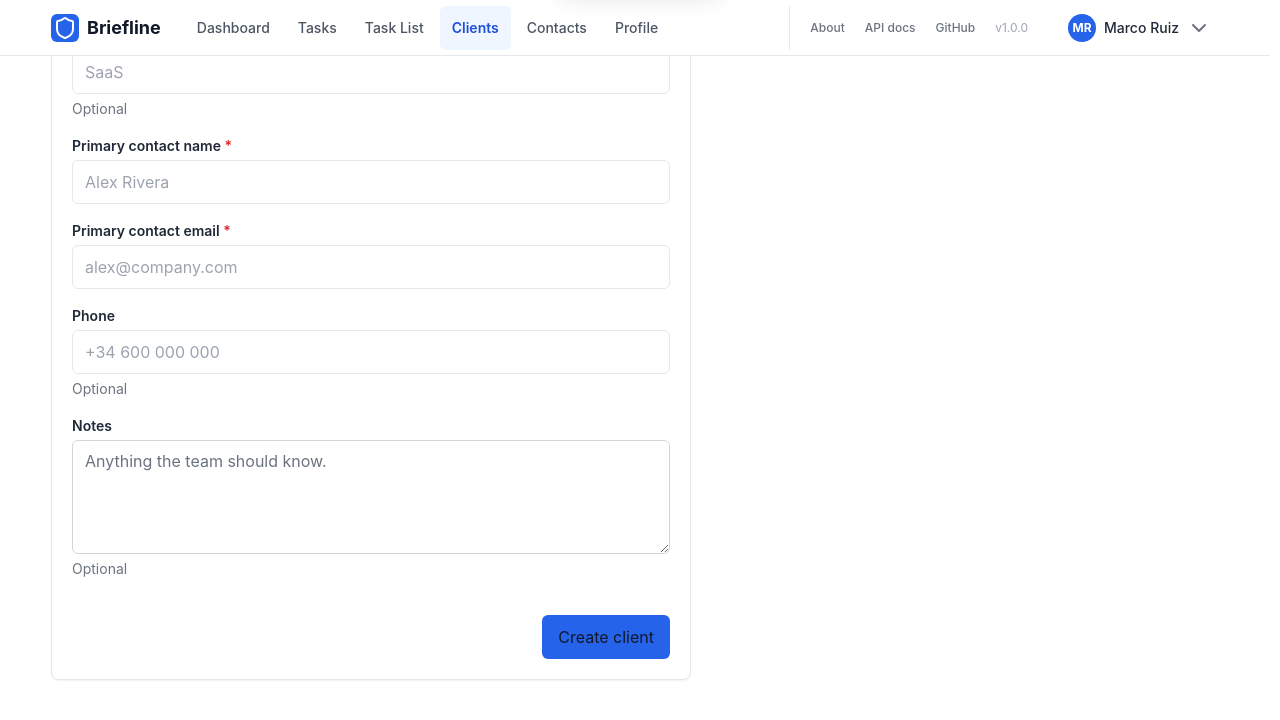
Scenario: Client create › blocks submission when required fields are missing (inline errors)
This screenshot has width=1280, height=720.
(page scrolled)
Step 1. Click the button "Create client" → coordinates (606, 637), box 542,615 -> 670,659
(page scrolled)
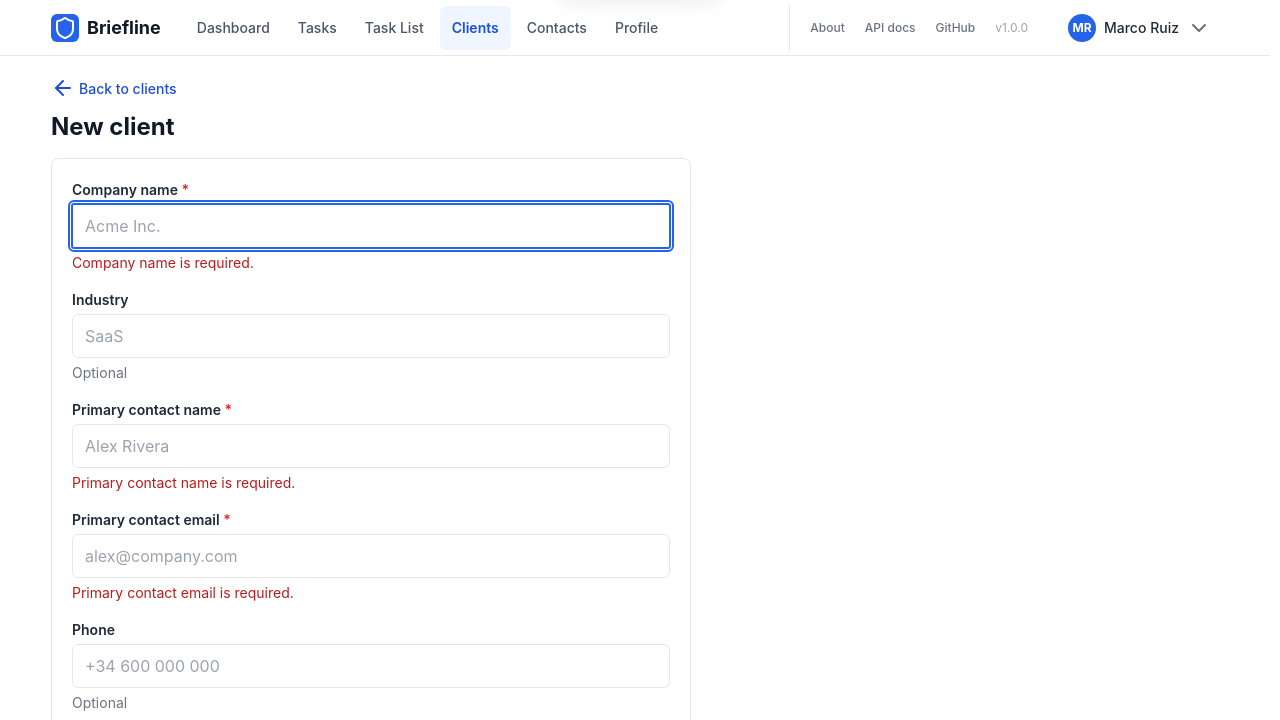
Result: the text "Company name is required." is shown at 72,254 -> 254,271
Result: the text "Primary contact name is required." is shown at 72,474 -> 295,491
Result: the text "Primary contact email is required." is shown at 72,584 -> 294,601
